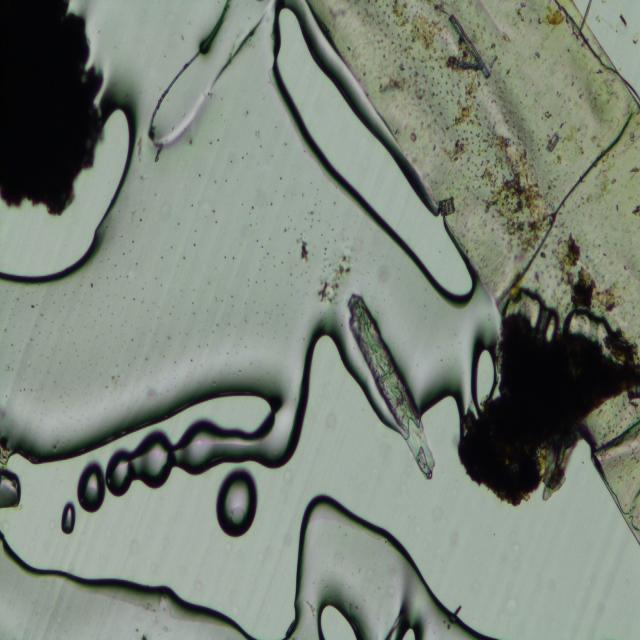Air bubble: (268, 5, 476, 300), (286, 494, 494, 640), (0, 525, 263, 638), (0, 105, 140, 286), (106, 411, 307, 496), (216, 465, 261, 537), (469, 342, 498, 412), (76, 460, 106, 516), (0, 466, 22, 512), (62, 500, 76, 538)
Background material: (307, 0, 640, 546), (456, 327, 638, 505), (0, 1, 108, 215), (146, 0, 258, 152), (310, 245, 359, 301), (294, 230, 314, 268)
Diatom: (439, 194, 457, 217)
Microfibre: (348, 294, 434, 481)
